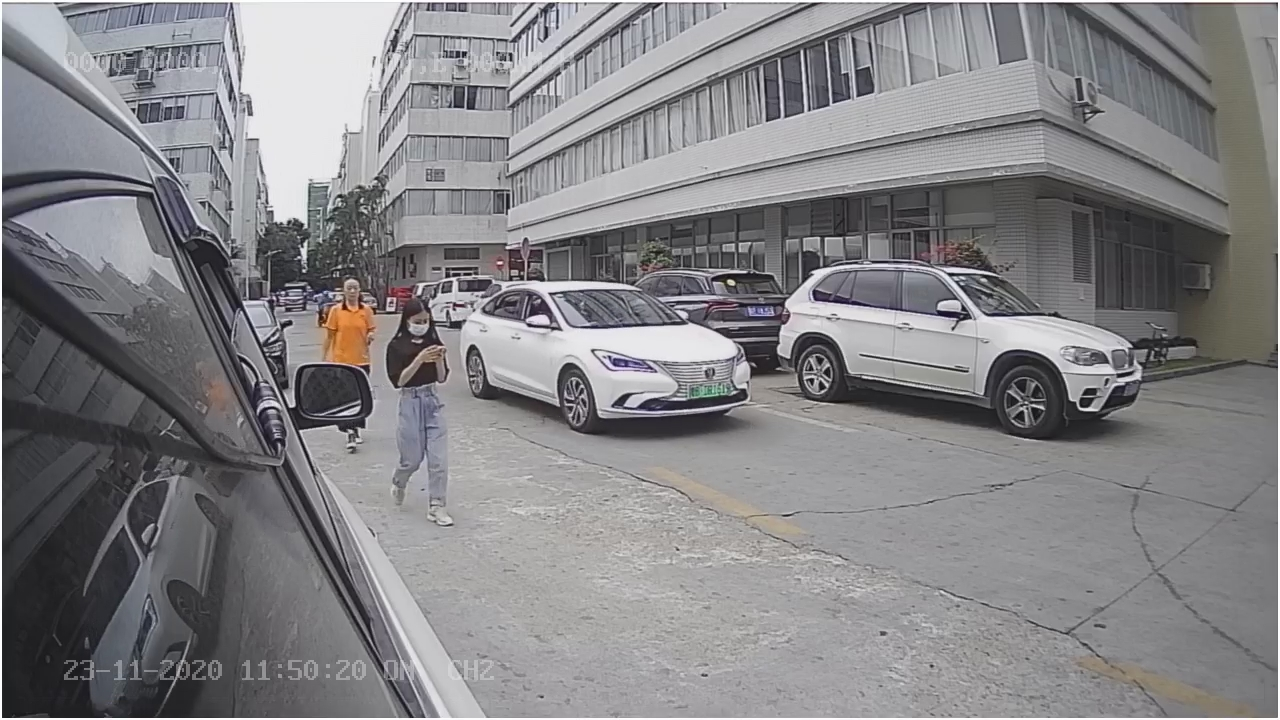person: (383, 286, 465, 527)
